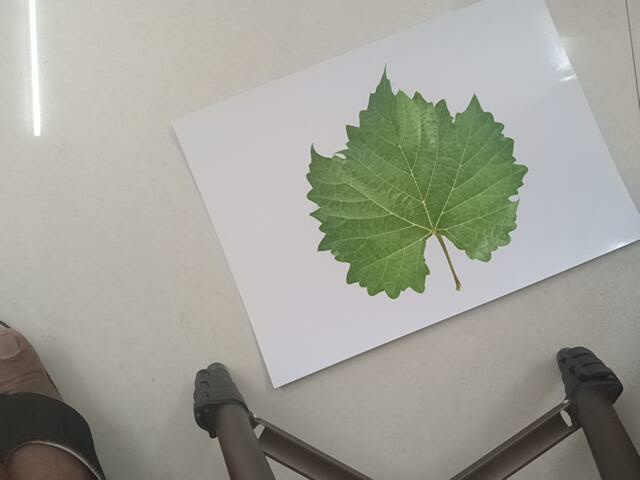Grape_Healthy: (305, 61, 553, 298)
